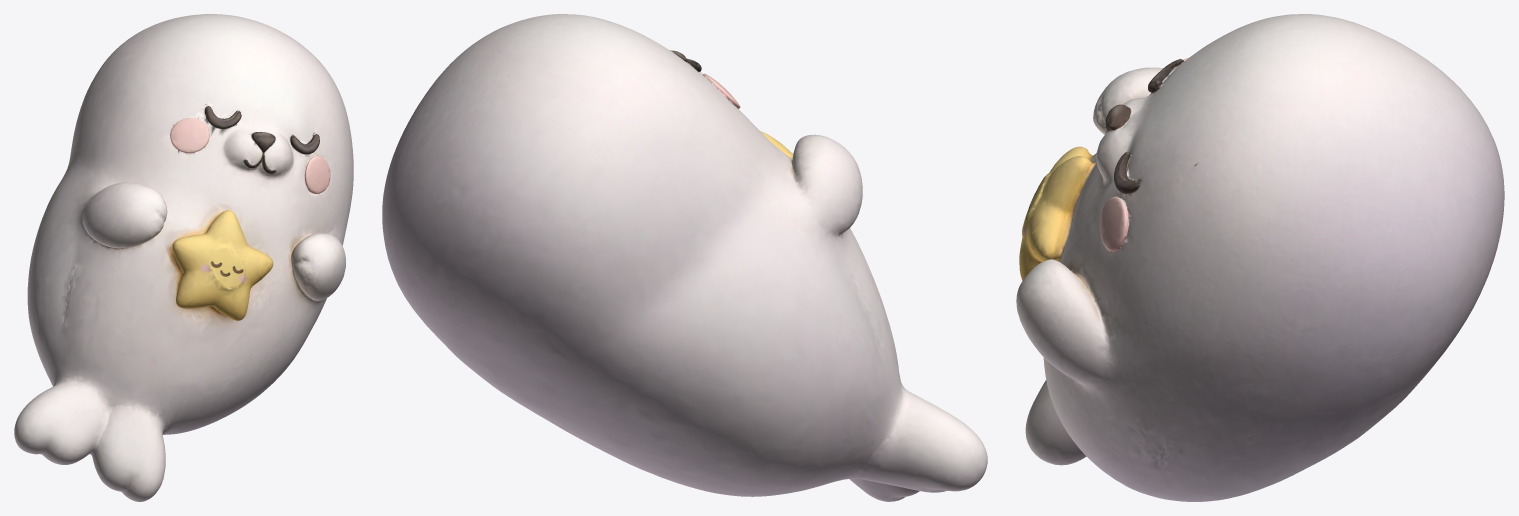
Rendered from model-mobile-v001.glb.
3 renders of one model, left to right at view 1: azimuth 30°, elevation 25°; view 2: azimuth 150°, elevation 25°; view 3: azimuth 270°, elevation 25°, orthographic. The views are drawn at different scales.
Parts seen in each view (by area): view 1: tmpij7u937xobj; view 2: tmpij7u937xobj; view 3: tmpij7u937xobj.
Boxes of the visible parts, x1=… form: tmpij7u937xobj: x1=14, y1=14, x2=353, y2=501; tmpij7u937xobj: x1=382, y1=14, x2=987, y2=501; tmpij7u937xobj: x1=1016, y1=14, x2=1504, y2=501.
Size of the model in its own units: 0.9999 by 0.9665 by 0.7895.
1 material, 1 textured.
